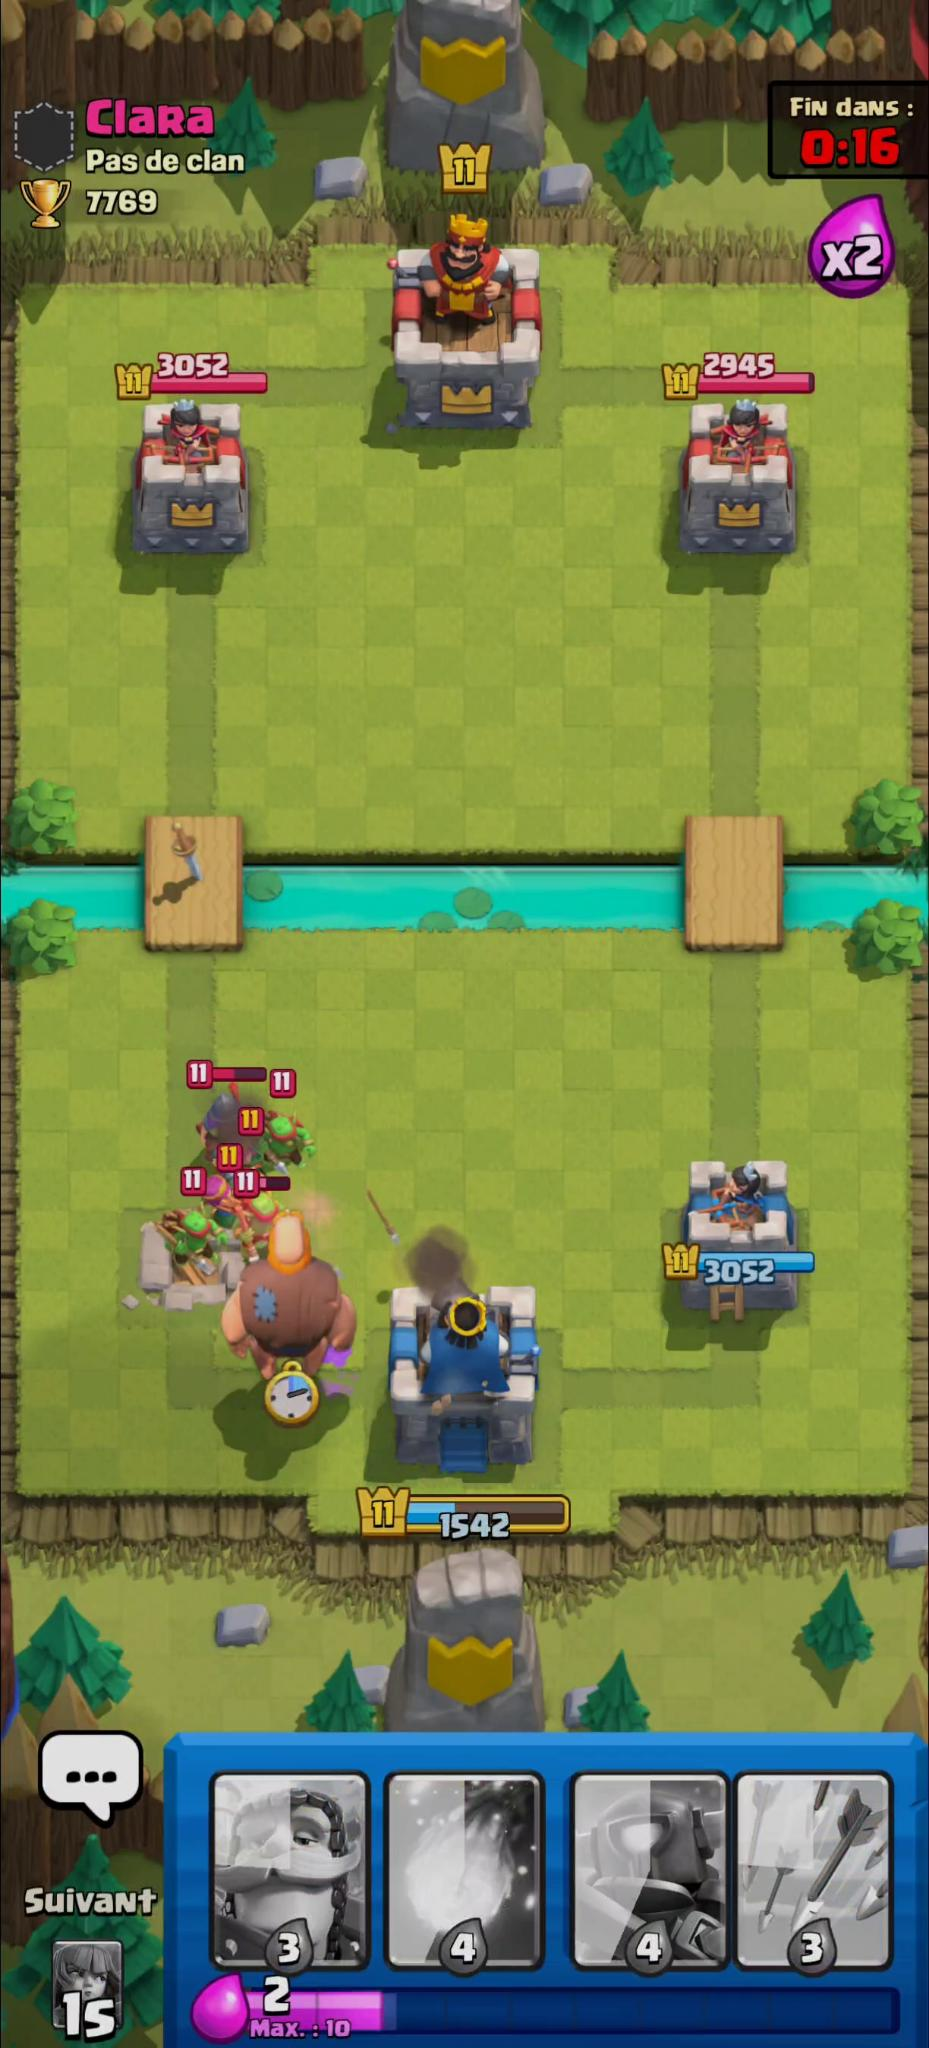archere: (199, 1176, 248, 1226)
geant: (226, 1209, 359, 1381)
gobelin_lances: (155, 1208, 229, 1276), (234, 1187, 284, 1262), (260, 1112, 319, 1174)
mousquetaire: (197, 1085, 251, 1164)
